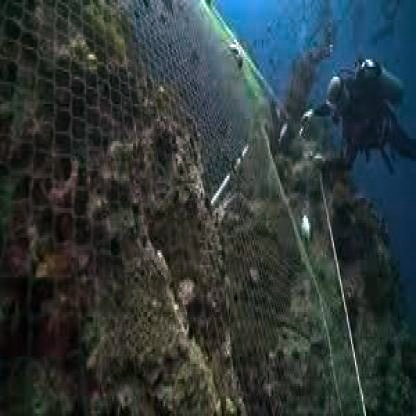net: (1, 17, 354, 416)
